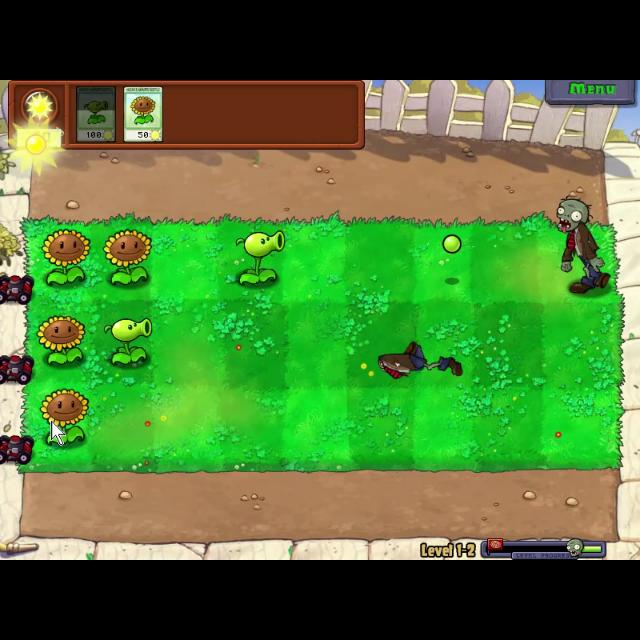Garden: (16, 216, 626, 478)
Menu Button: (542, 80, 638, 106)
Mower: (0, 431, 32, 467), (0, 272, 34, 304), (0, 354, 34, 386)
Peashooter: (74, 84, 116, 144)
Peashooter Seed: (98, 312, 160, 374), (232, 230, 290, 288)
Seed Panel: (6, 80, 368, 154)
Sun: (4, 110, 64, 178)
Sunflower: (124, 82, 166, 144)
Sunflower Seed: (100, 228, 156, 290), (36, 308, 88, 369), (40, 225, 90, 287), (38, 388, 90, 447)
Zombie: (554, 198, 612, 296)
